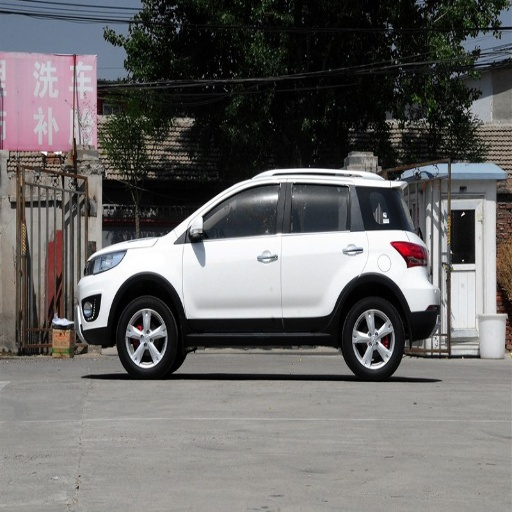back_left_door: (283, 179, 368, 330)
front_left_door: (183, 179, 285, 330)
